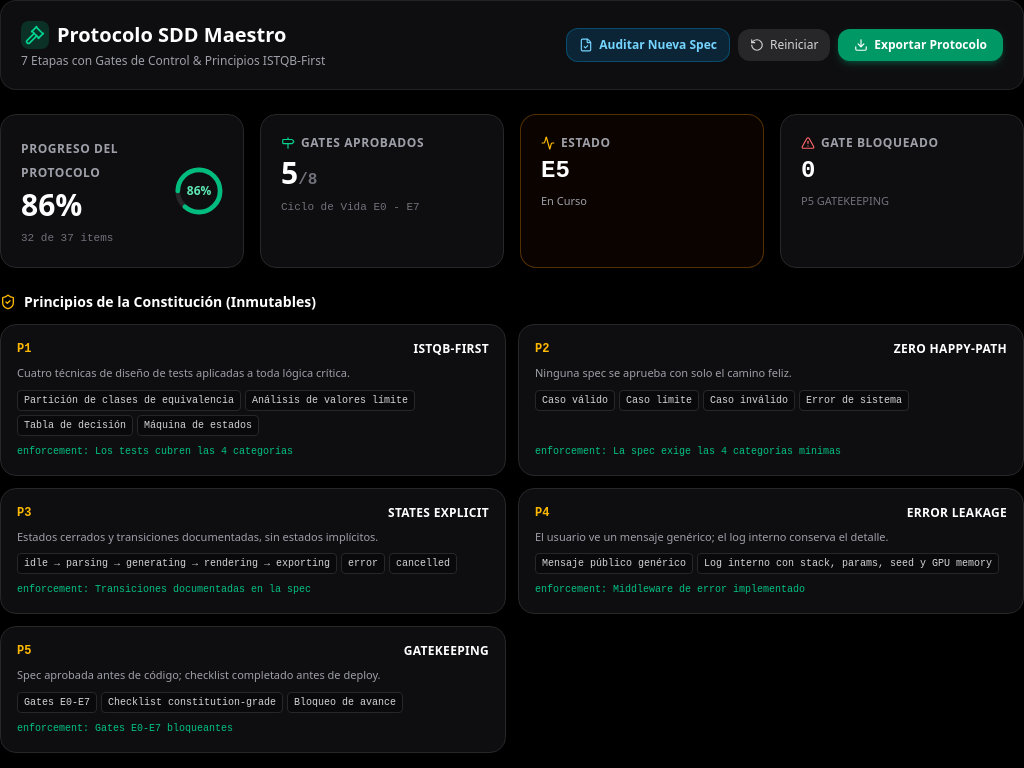
Test case: SddMaestroView — spec auditor round trip › blocks an empty spec and explains why
The width and height of the screenshot is (1024, 768).
Click the button "Auditar Nueva Spec" at x=648, y=45, box [566, 28, 730, 62]
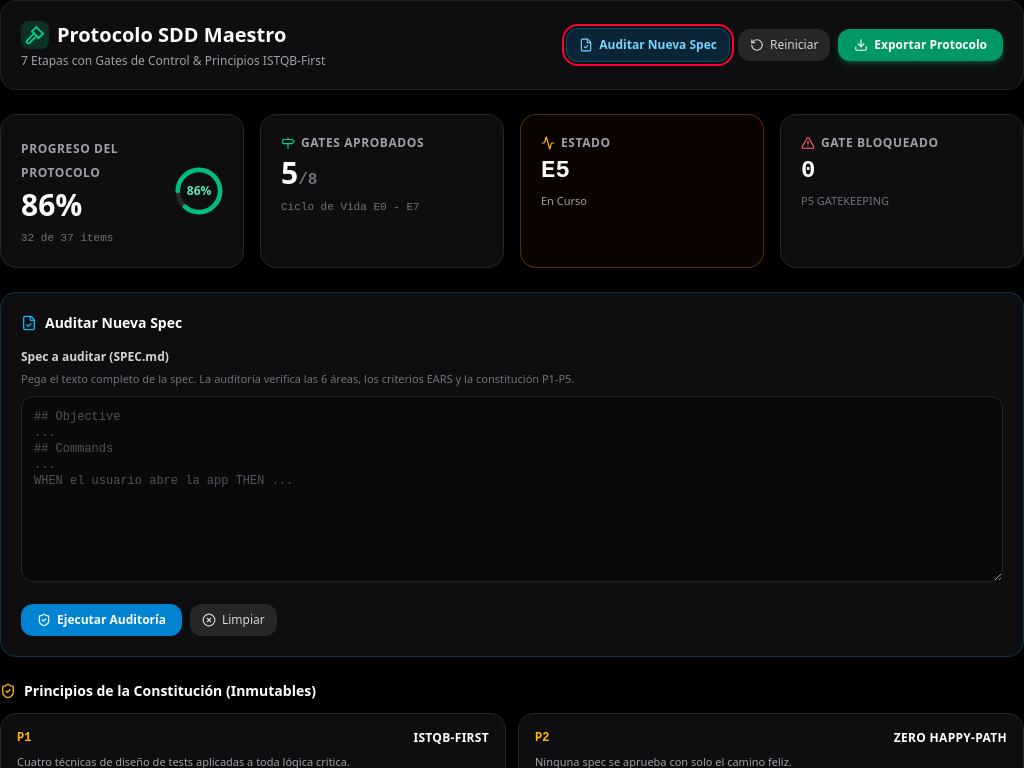
Click the button "Ejecutar Auditoría" at x=102, y=620, box [21, 604, 182, 636]
(page scrolled)
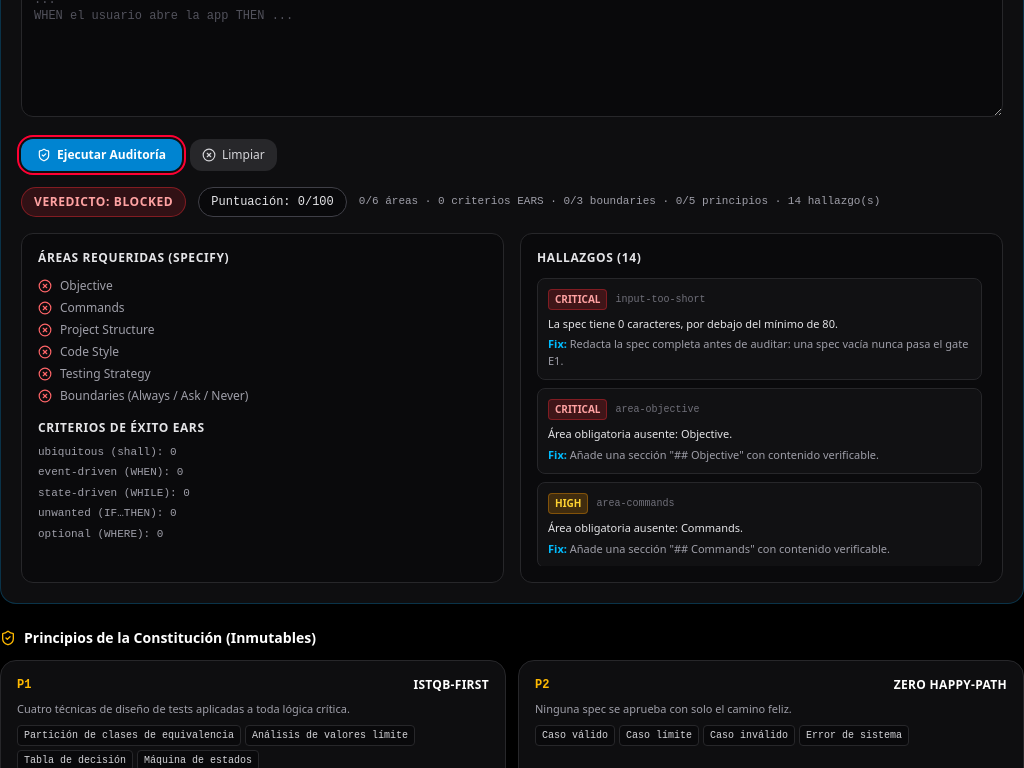
Now the element that starts with "Veredicto" shows "Veredicto: blocked", box [21, 186, 1003, 582]
Now the element that starts with "Veredicto" shows "Puntuación: 0/100", box [21, 186, 1003, 582]
Now the element that starts with "Veredicto" shows "por debajo del mínimo de 80", box [548, 316, 838, 330]
